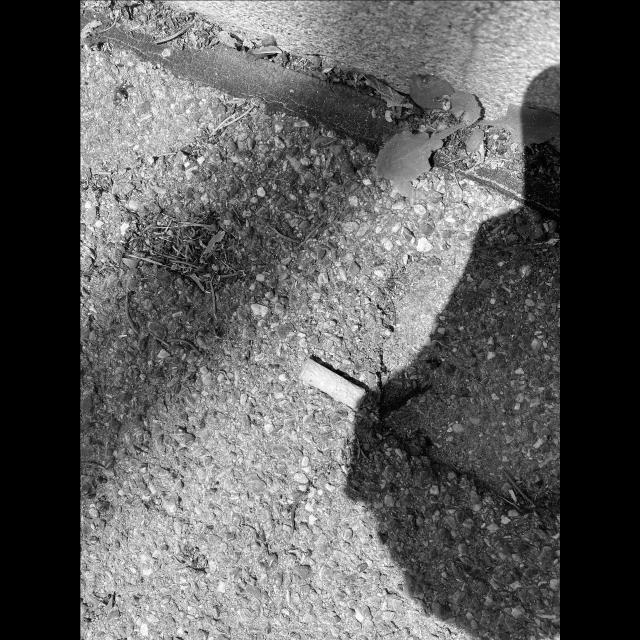cigarette: (296, 355, 369, 410)
